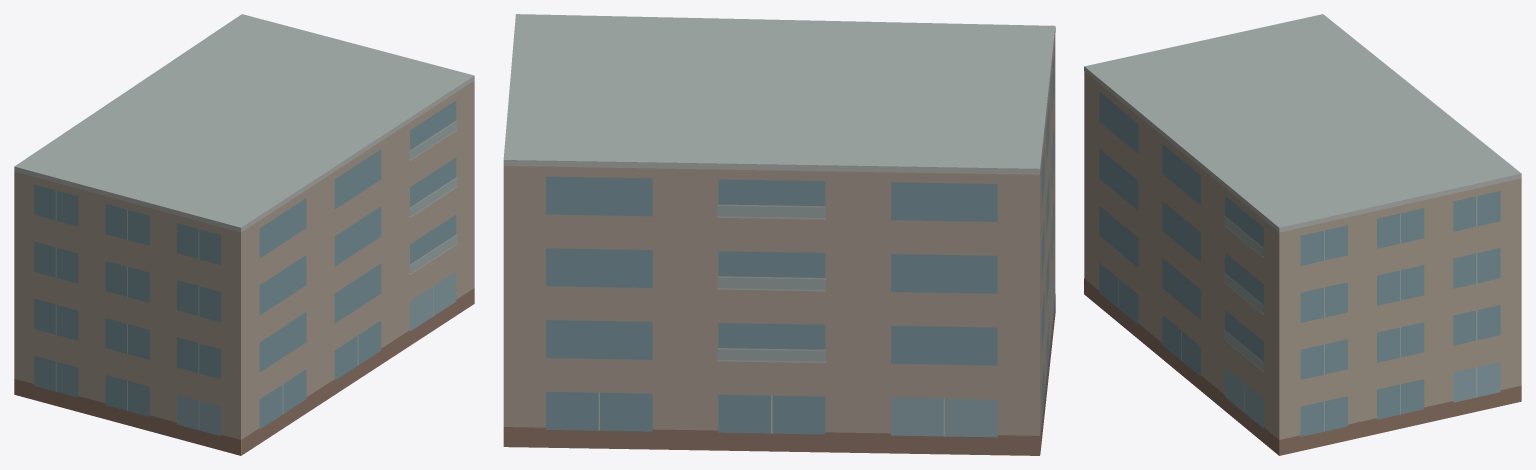
The model's file is survey-upis-32996743.glb.
The picture shows the model from 3 angles, left to right: view 1: azimuth 30°, elevation 25°; view 2: azimuth 150°, elevation 25°; view 3: azimuth 270°, elevation 25°; orthographic projection. The views are drawn at different scales.
Visible parts, largest first — view 1: survey-upis-32996743.tmp; view 2: survey-upis-32996743.tmp; view 3: survey-upis-32996743.tmp.
Boxes of the visible parts, left/top/right/bottom form: survey-upis-32996743.tmp: left=14, top=14, right=474, bottom=455; survey-upis-32996743.tmp: left=503, top=14, right=1055, bottom=455; survey-upis-32996743.tmp: left=1084, top=14, right=1521, bottom=455.
Bounding box in the file's own units: 23.34 × 11.6 × 20.18.
